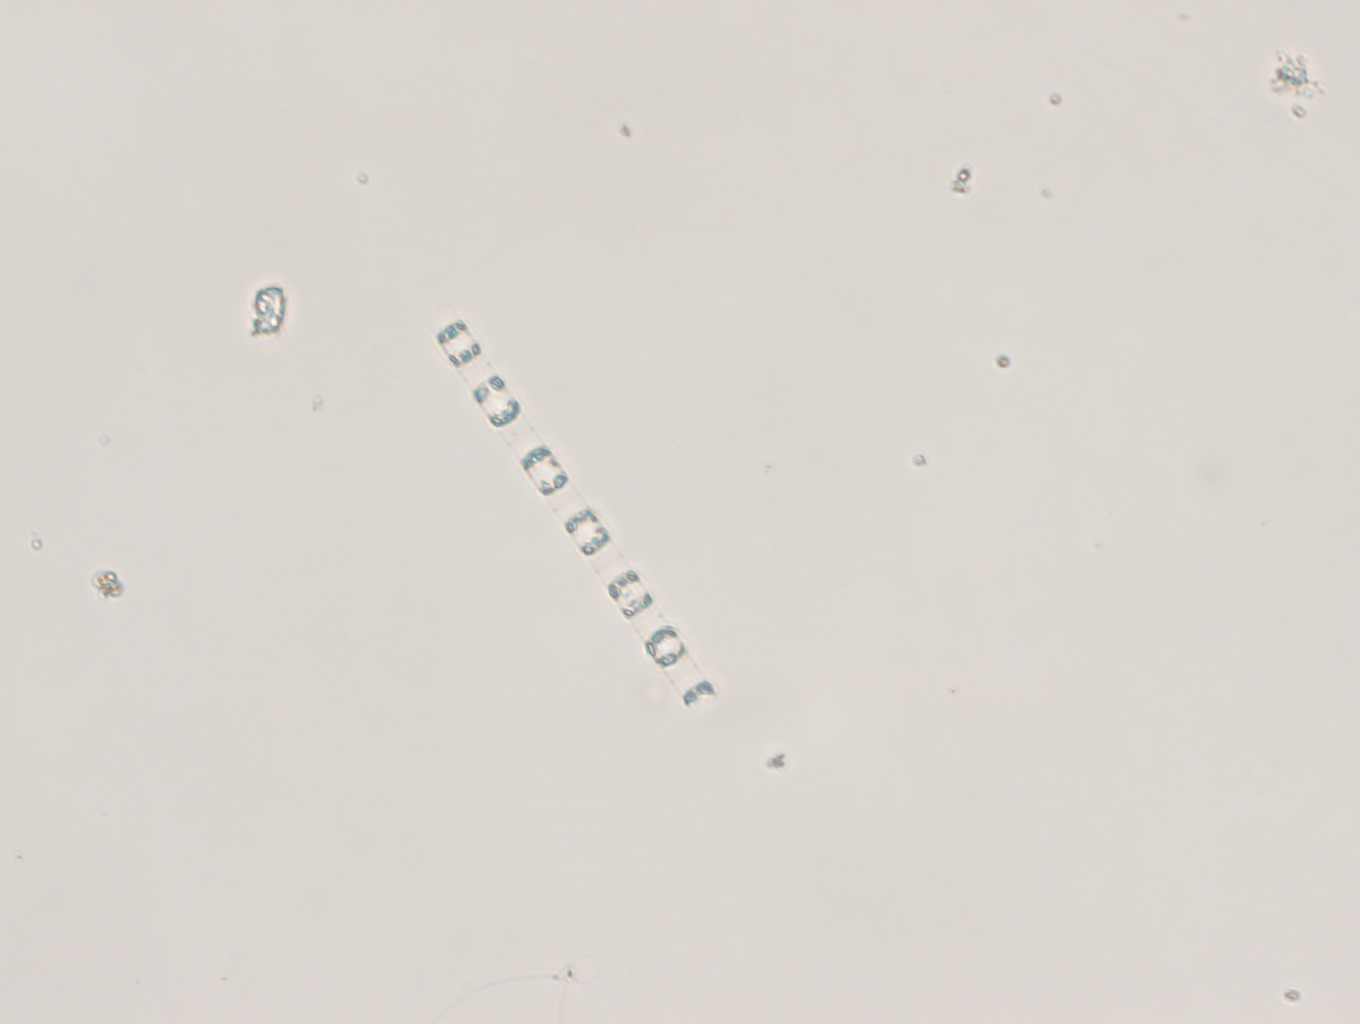skeletonema: (432, 314, 727, 727)
